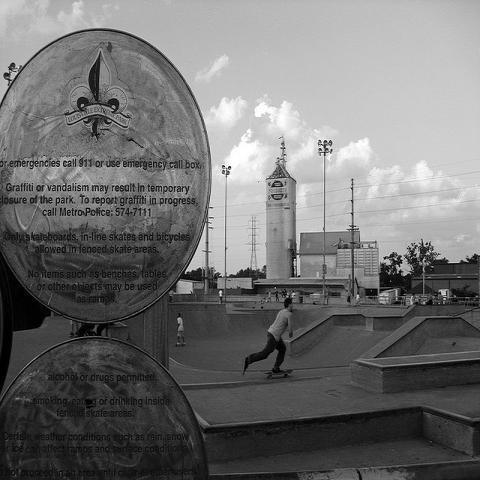truck: (379, 287, 402, 304), (439, 290, 457, 298)
